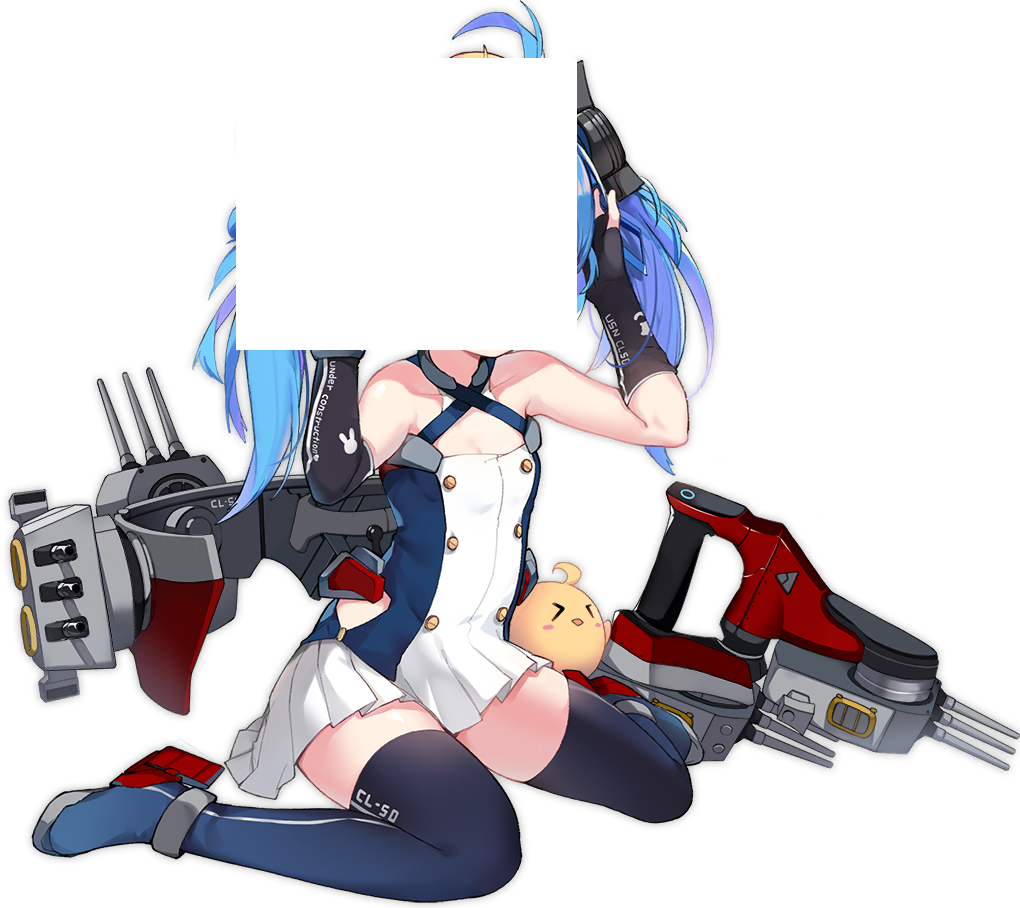person: (4, 0, 1019, 907)
